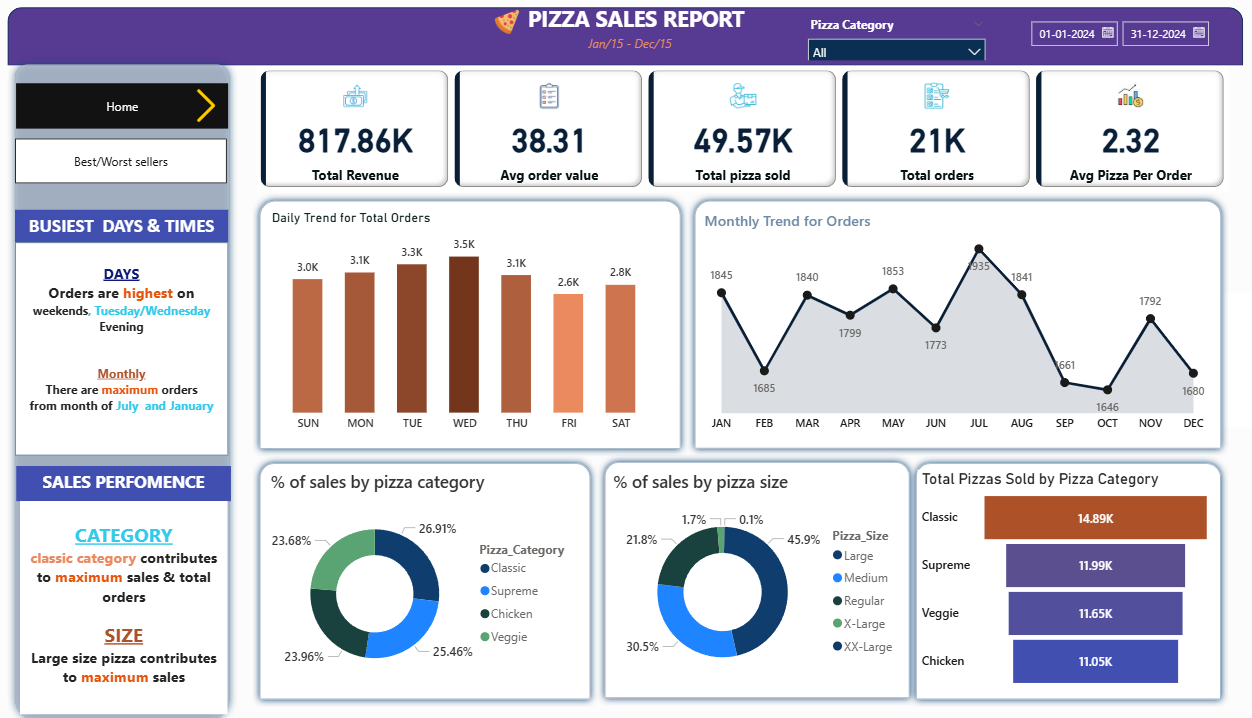

This screenshot's page, from the dashboard's own definition file:
{"tool":"powerbi","page":{"name":"Home","canvas":[1500,820],"ordinal":0},"visuals":[{"type":"cardVisual","fields":{"Data":["pizza_sales.Total Revenue","pizza_sales.Avg order value","pizza_sales.Total pizza sold","pizza_sales.Total orders","pizza_sales.Avg Pizza Per Order"]},"box":[307.8,83.1,1083.1,140.3],"z":0},{"type":"shape","box":[31.2,18.2,1376.6,64.9],"z":1000},{"type":"textbox","box":[1130,335,342.5,150],"z":2000},{"type":"textbox","box":[577.9,9.1,306.5,51.9],"z":3000},{"type":"textbox","box":[672.7,44.2,116.9,29.9],"z":4000},{"type":"image","box":[567.5,13,37.7,44.2],"z":5000},{"type":"shape","box":[303.8,226.2,485,292.5],"z":6000},{"type":"columnChart","title":"Daily Trend for Total Orders","fields":{"Category":["pizza_sales.Order Day"],"Y":["pizza_sales.Total orders"]},"box":[320,243.8,440,256.2],"z":7000},{"type":"shape","box":[788.3,226,602.6,292.2],"z":8000},{"type":"areaChart","title":"Monthly Trend for Orders","fields":{"Category":["pizza_sales.order Month"],"Y":["pizza_sales.Total orders"]},"box":[802.6,244.2,574,255.8],"z":9000},{"type":"shape","box":[303.9,518.2,384.4,279.2],"z":10000},{"type":"shape","box":[688.3,516.9,355.8,279.2],"z":11000},{"type":"shape","box":[1035.1,518.2,355.8,279.2],"z":12000},{"type":"donutChart","title":"% of sales by pizza category","fields":{"Category":["pizza_sales.PIZZA_CATEGORY"],"Y":["pizza_sales.Total Revenue"]},"box":[319.5,533.8,353.2,251.9],"z":13000},{"type":"donutChart","title":"% of sales by pizza size","fields":{"Category":["pizza_sales.PIZZA_SIZE"],"Y":["pizza_sales.Total Revenue"]},"box":[700,533.8,335.1,248.1],"z":14000},{"type":"funnel","title":"Total Pizzas Sold by Pizza Category","fields":{"Category":["pizza_sales.PIZZA_CATEGORY"],"Y":["pizza_sales.Total pizza sold"]},"box":[1044.2,533.8,332.5,248.1],"z":15000},{"type":"shape","box":[31.2,74,255.8,746.8],"z":16000},{"type":"textbox","box":[39,244.2,237.7,36.4],"z":17000},{"type":"textbox","box":[39,280.5,237.7,237.7],"z":18000},{"type":"textbox","box":[40.3,529.9,239,39],"z":19000},{"type":"textbox","box":[43.9,568.8,231.4,237.7],"z":20000},{"type":"slicer","fields":{"Values":["pizza_sales.PIZZA_CATEGORY"]},"box":[911.7,23.4,218.2,53.2],"z":21000},{"type":"slicer","fields":{"Values":["pizza_sales.ORDER_DATE"]},"box":[1158.4,23.4,218.2,59.7],"z":22000},{"type":"pageNavigator","box":[40.3,102.8,236.1,50],"z":23000},{"type":"pageNavigator","box":[38.9,163.9,236.1,50],"z":24000},{"type":"image","box":[228.4,101.7,47.4,51.5],"z":25000}]}

Visuals, with their boxes on the page's 1500x820 design canvas (x1, y1, x2, y2). These are canvas units, not pixel positions in the 1252x718 screenshot, which may show the page scaled, cropped or inside an application window:
cardVisual - pizza_sales.Total Revenue x pizza_sales.Avg order value: 308:83:1391:223
shape: 31:18:1408:83
textbox: 1130:335:1472:485
textbox: 578:9:884:61
textbox: 673:44:790:74
image: 568:13:605:57
shape: 304:226:789:519
"Daily Trend for Total Orders" columnChart: 320:244:760:500
shape: 788:226:1391:518
"Monthly Trend for Orders" areaChart: 803:244:1377:500
shape: 304:518:688:797
shape: 688:517:1044:796
shape: 1035:518:1391:797
"% of sales by pizza category" donutChart: 320:534:673:786
"% of sales by pizza size" donutChart: 700:534:1035:782
"Total Pizzas Sold by Pizza Category" funnel: 1044:534:1377:782
shape: 31:74:287:821
textbox: 39:244:277:281
textbox: 39:280:277:518
textbox: 40:530:279:569
textbox: 44:569:275:806
slicer - pizza_sales.PIZZA_CATEGORY: 912:23:1130:77
slicer - pizza_sales.ORDER_DATE: 1158:23:1377:83
pageNavigator: 40:103:276:153
pageNavigator: 39:164:275:214
image: 228:102:276:153
